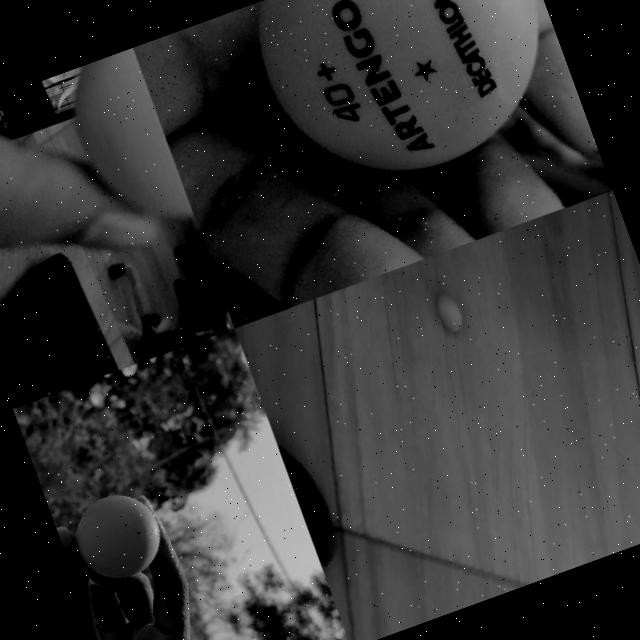ping-pong-ball: (238, 0, 578, 212), (53, 48, 193, 245), (65, 482, 174, 590), (432, 287, 464, 330)
